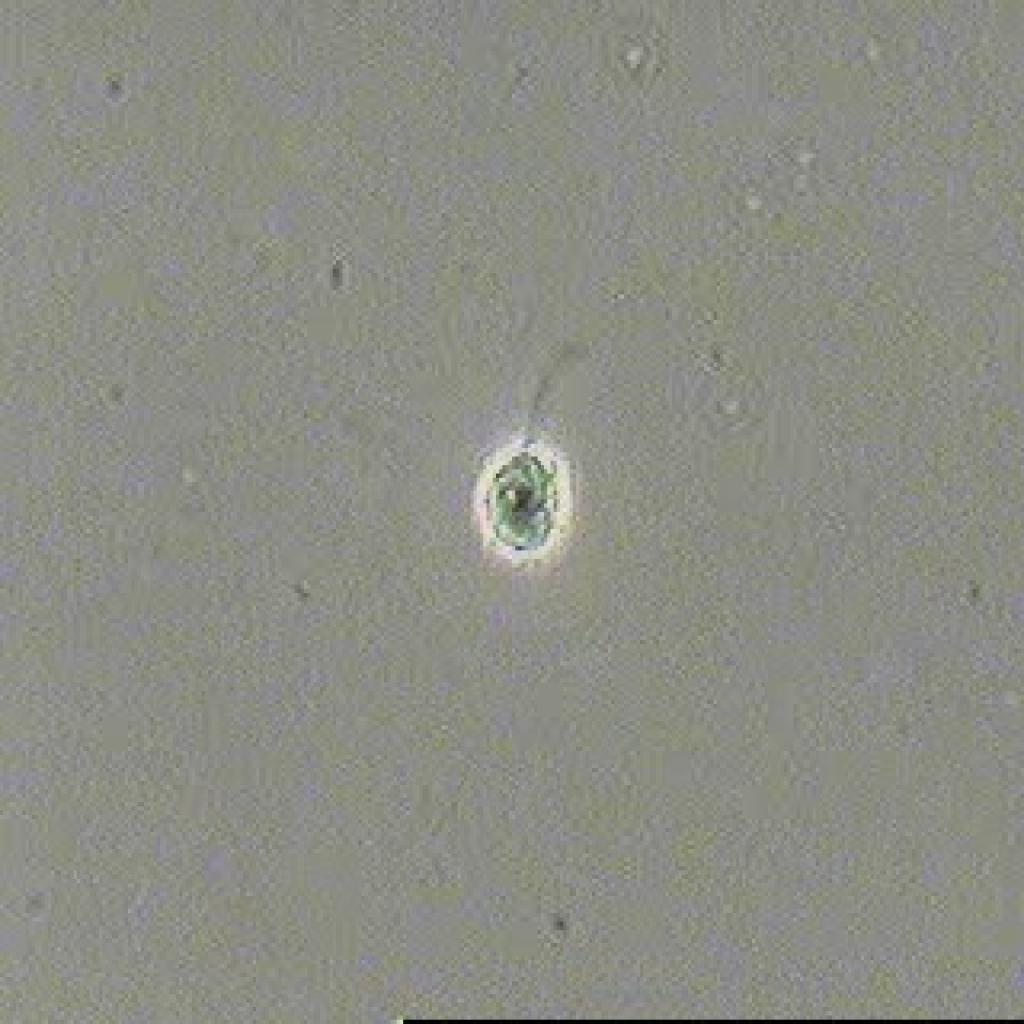Flagellates: (460, 324, 618, 606)
